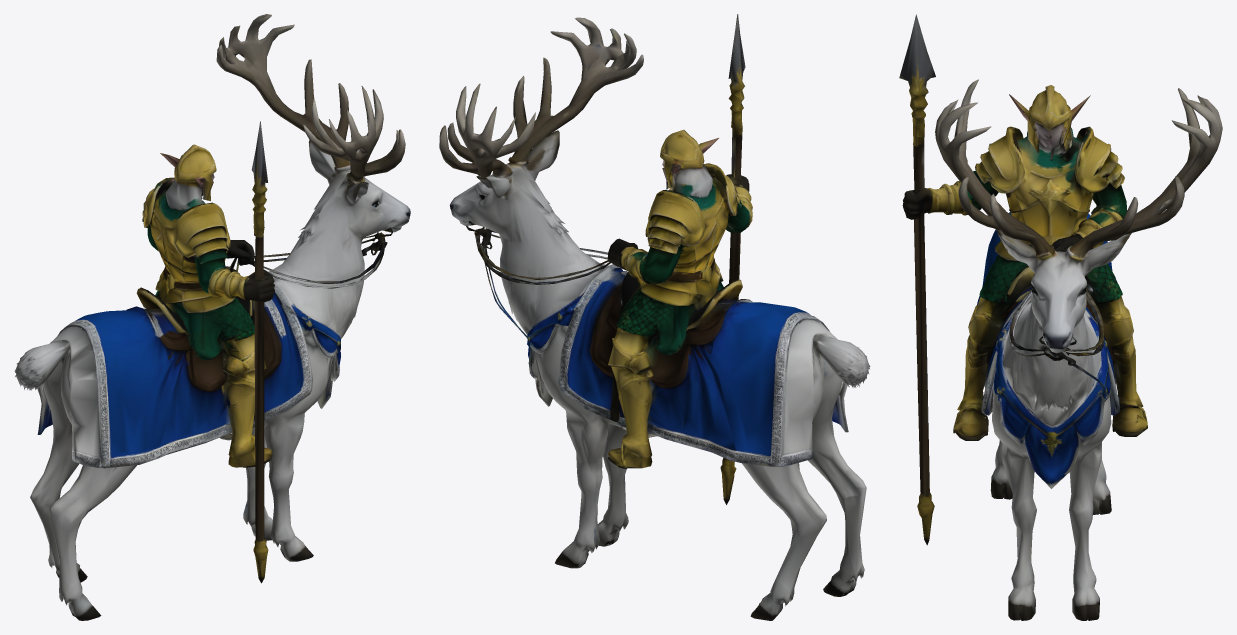
Rendered from elf_cav.glb.
3 views of the same model, side by side, from view 1: azimuth 30°, elevation 25°; view 2: azimuth 150°, elevation 25°; view 3: azimuth 270°, elevation 25° (orthographic). The views are drawn at different scales.
Visible parts, largest first — view 1: node_0; view 2: node_0; view 3: node_0.
Part boxes in pixels (x1,y1,x2,y2): node_0: [14, 14, 410, 620]; node_0: [439, 14, 870, 620]; node_0: [899, 14, 1222, 620].
Size of the model in its own units: 0.8217 by 0.9749 by 0.5167.
Materials: 1 (1 with a texture image).
